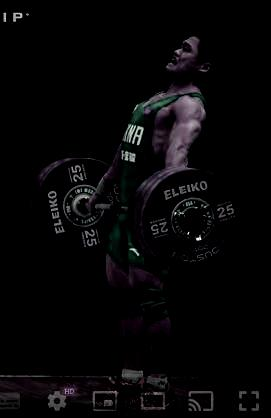Barbell: (201, 216, 217, 230)
